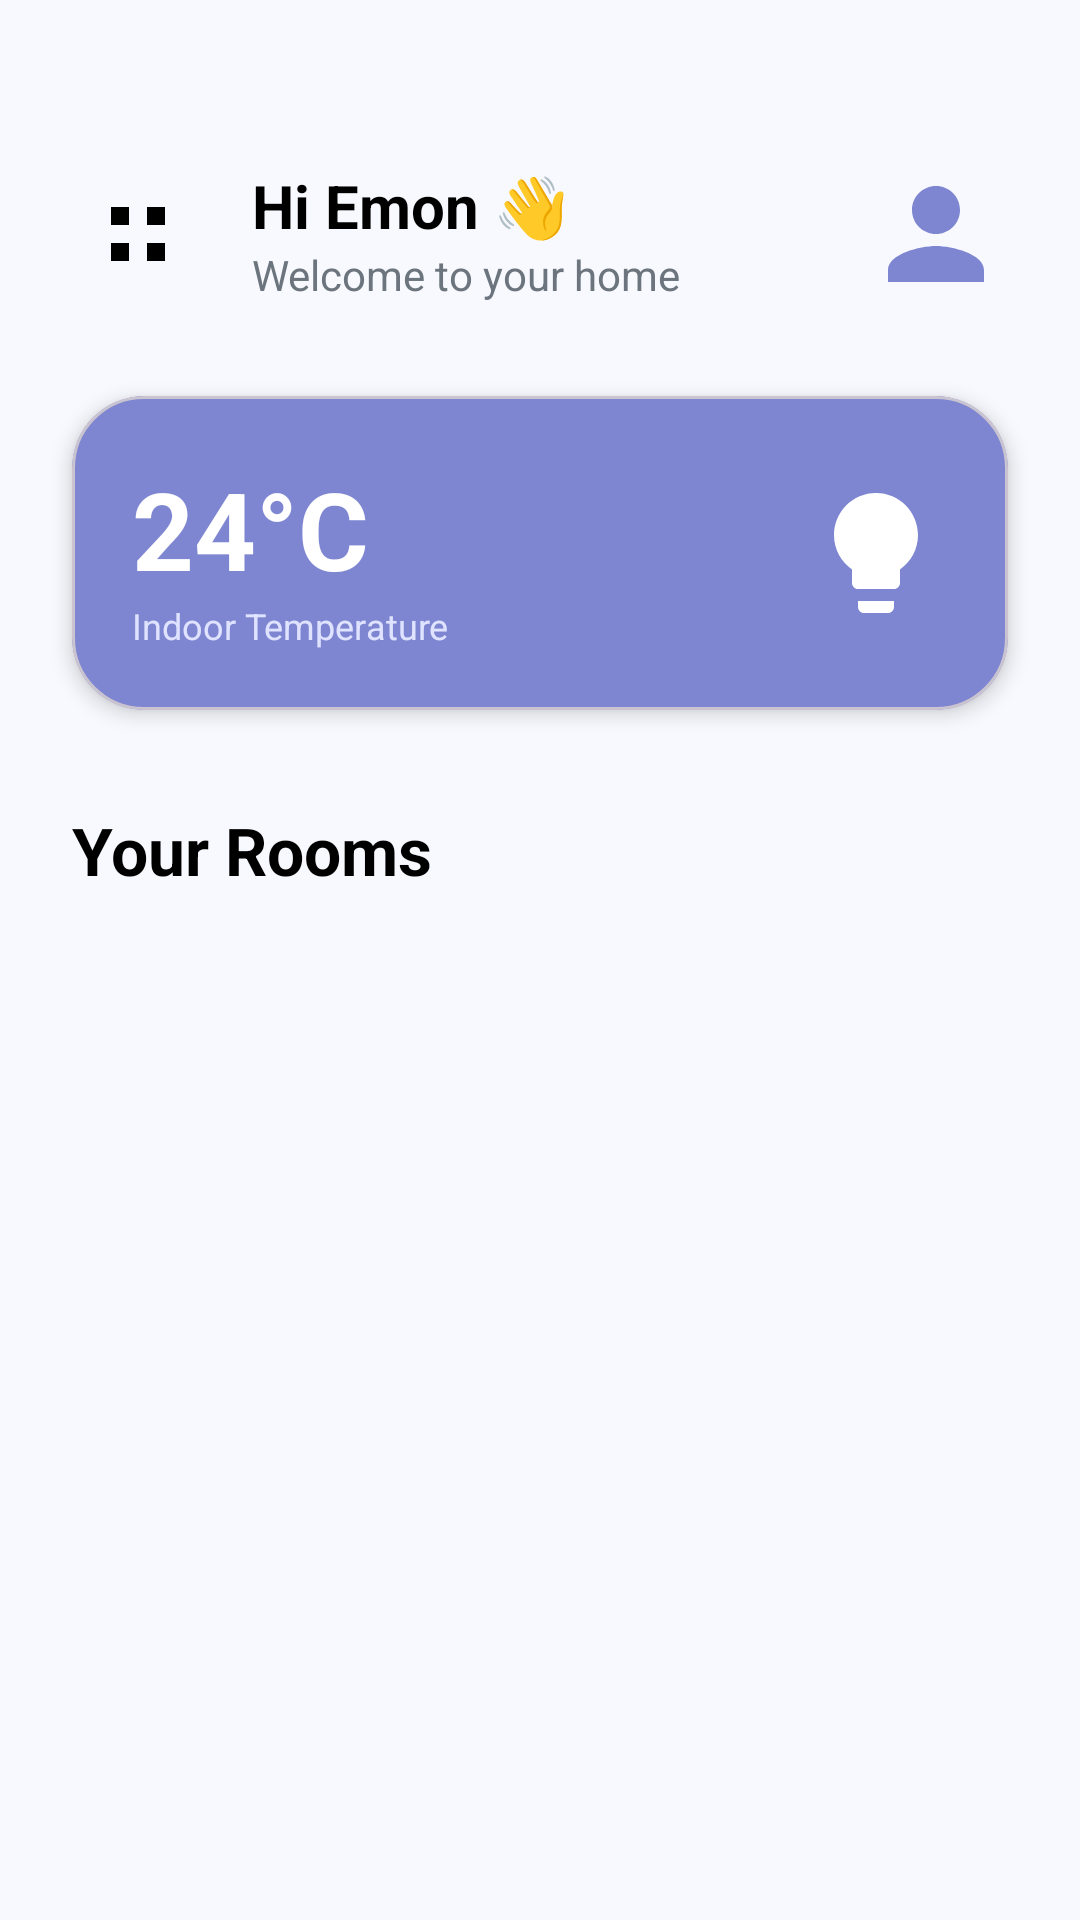

Point at icon controls on the screen. Image size 1080*1920, points as point (x, y).
grid: point (138, 234)
